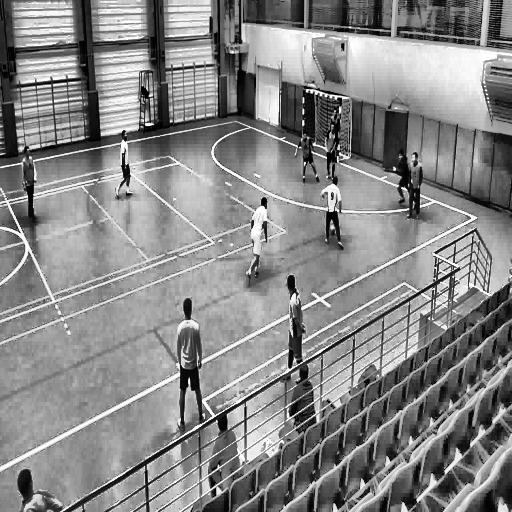ball: (328, 224, 337, 238)
player: (173, 291, 208, 434), (280, 268, 308, 386), (246, 193, 270, 292), (320, 178, 346, 253), (392, 148, 420, 211), (21, 144, 41, 225), (294, 130, 321, 185), (114, 129, 133, 200), (408, 151, 424, 222), (324, 122, 339, 176), (329, 107, 342, 166)
